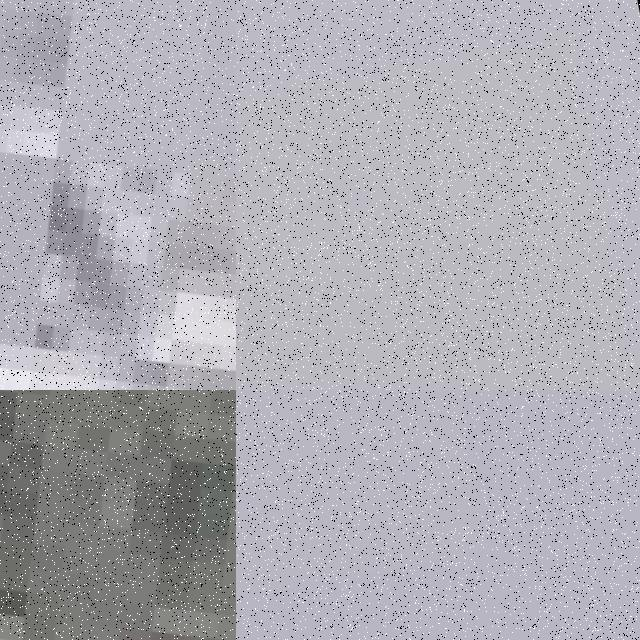drone: (0, 0, 236, 390), (0, 390, 236, 640)
